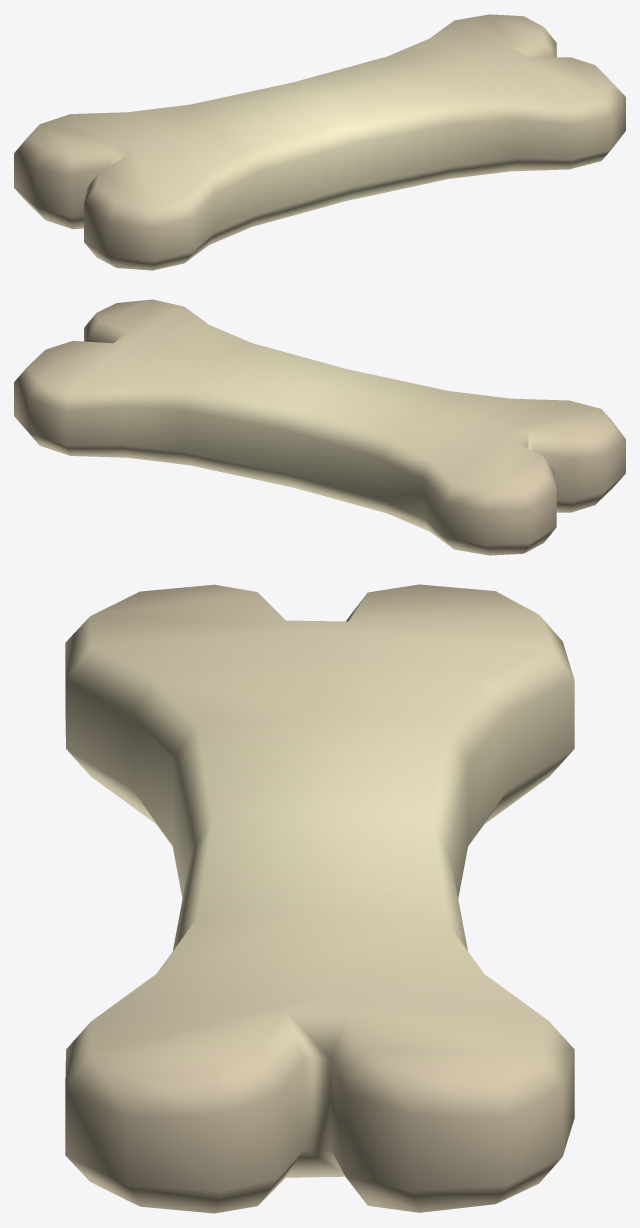
File: toy_5.fbx
3 renders of one model, top to bottom at view 1: azimuth 30°, elevation 25°; view 2: azimuth 150°, elevation 25°; view 3: azimuth 270°, elevation 25°, orthographic. The views are drawn at different scales.
Visible parts, largest first — view 1: toy_5; view 2: toy_5; view 3: toy_5.
Part boxes in pixels (x1,y1,x2,y2): toy_5: [14, 14, 625, 270]; toy_5: [14, 299, 625, 555]; toy_5: [65, 584, 574, 1213].
Size of the model in its own units: 67.49 by 10.47 by 28.61.
